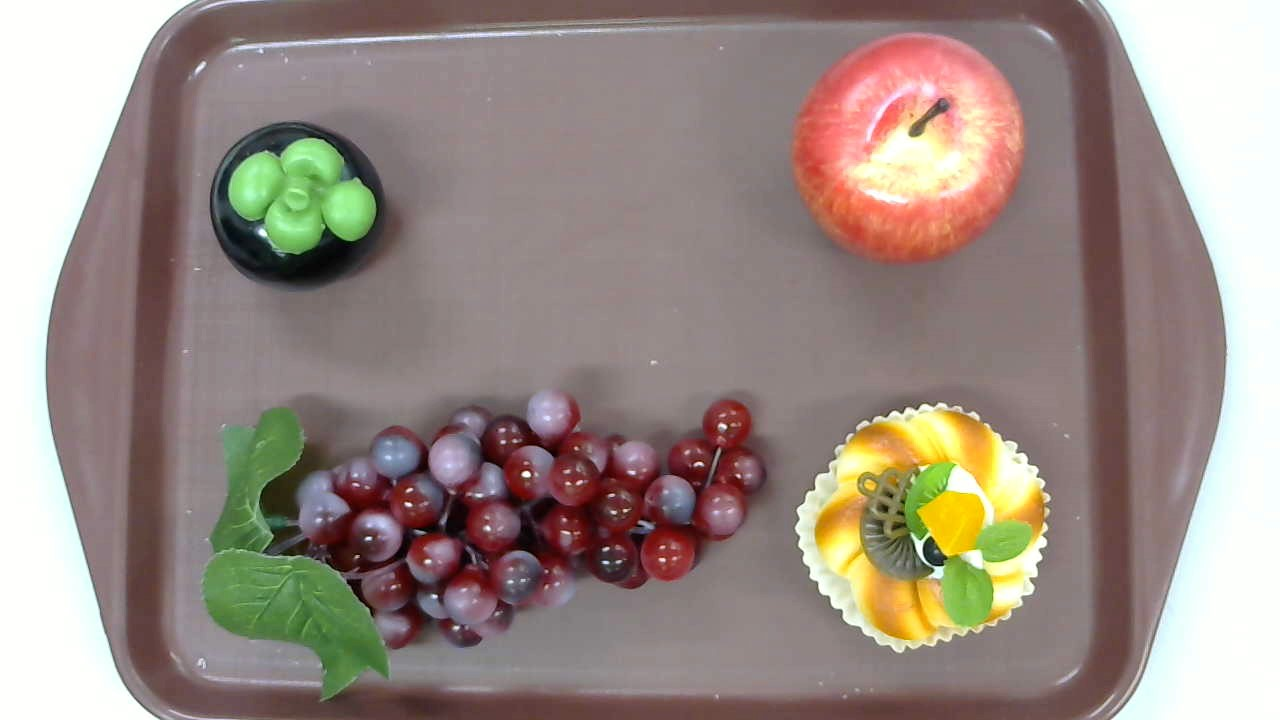fruit tart: (795, 402, 1051, 654)
grape: (201, 389, 766, 704)
mangosteen: (210, 121, 387, 294)
red apple: (791, 32, 1027, 268)
